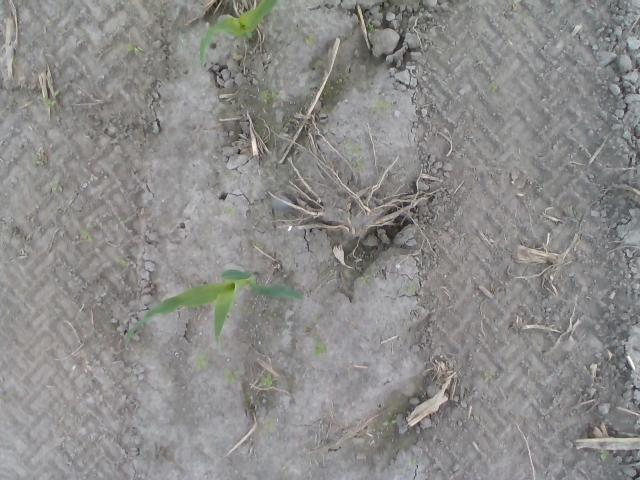Maize: (125, 269, 307, 352), (198, 0, 280, 67)
Weeds: (343, 139, 367, 169), (358, 259, 376, 284), (34, 90, 60, 106), (371, 98, 392, 112), (312, 342, 326, 359), (194, 354, 208, 370), (222, 369, 239, 382), (128, 44, 142, 57), (261, 376, 275, 388), (112, 257, 130, 266), (225, 206, 238, 218), (80, 232, 94, 243), (49, 181, 62, 192), (262, 92, 276, 102), (304, 35, 315, 46), (32, 154, 42, 166), (383, 420, 398, 428), (406, 285, 416, 295), (264, 421, 276, 429), (482, 370, 492, 379), (490, 82, 499, 91), (600, 451, 609, 460), (368, 22, 376, 32), (411, 459, 417, 468), (87, 222, 93, 230), (118, 220, 124, 225)
